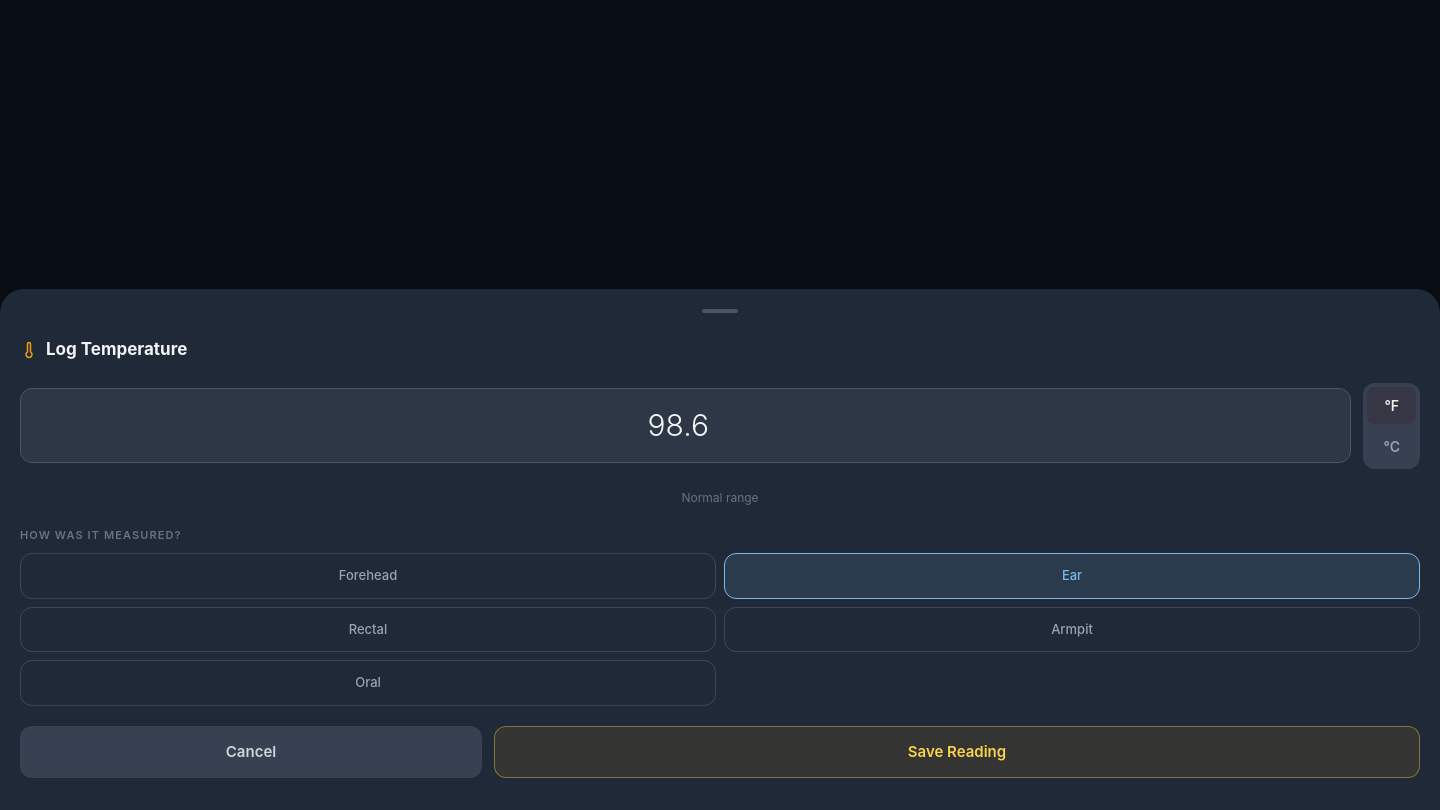
it: TempLogSheet › save button is disabled when input is empty
This screenshot has width=1440, height=810.
Clear the number field: (686, 426) [20,388,1352,463]
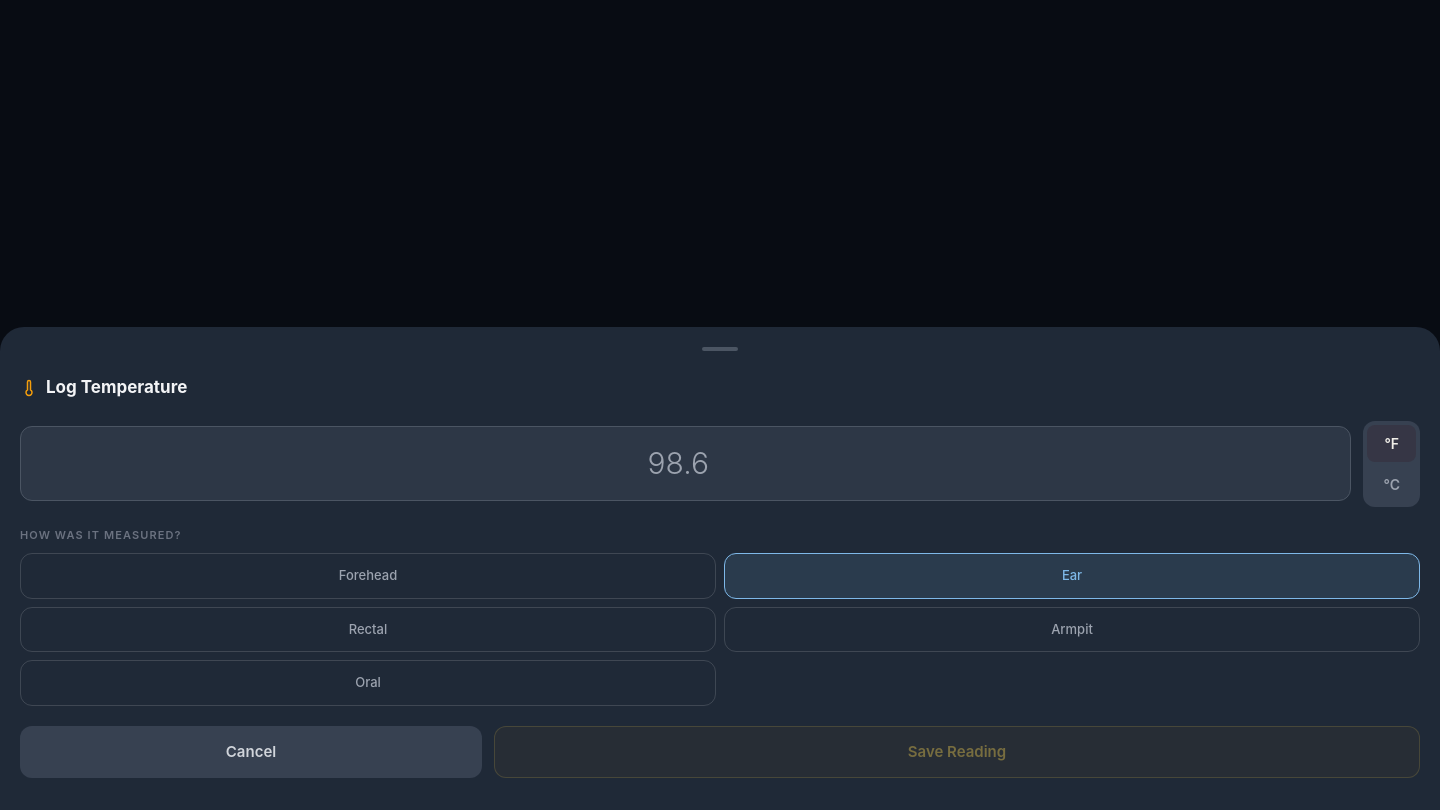
Now the button "Save Reading" is disabled, box [494,726,1420,778]
